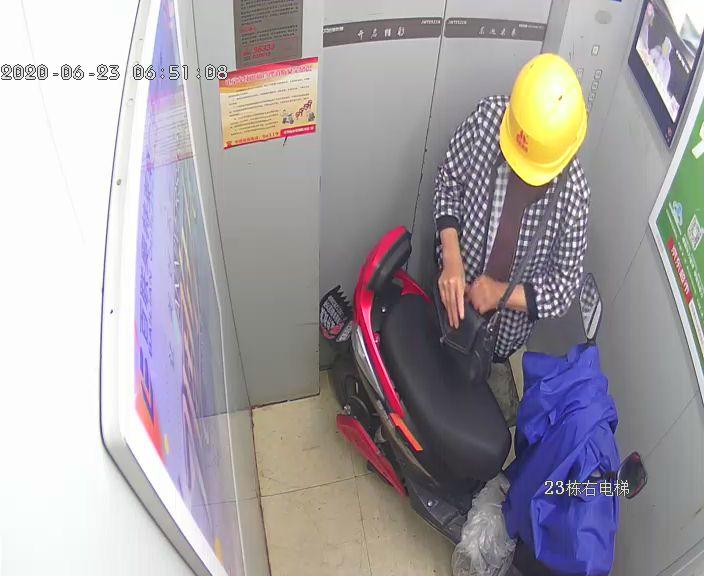Electric-bicycle: (331, 226, 645, 561)
